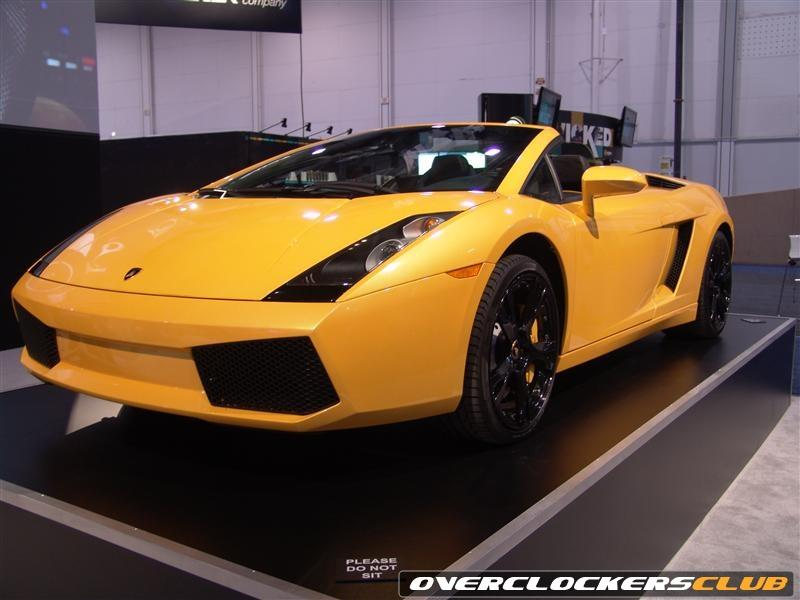small: (11, 117, 736, 447)
